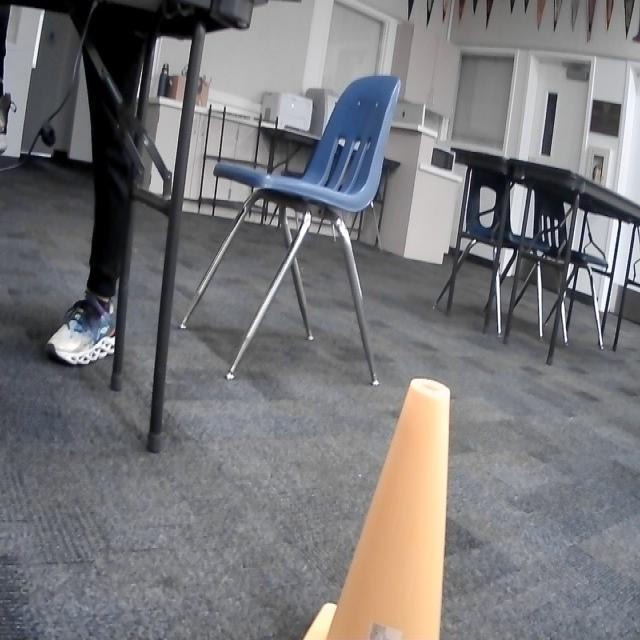cone: (305, 377, 451, 640)
